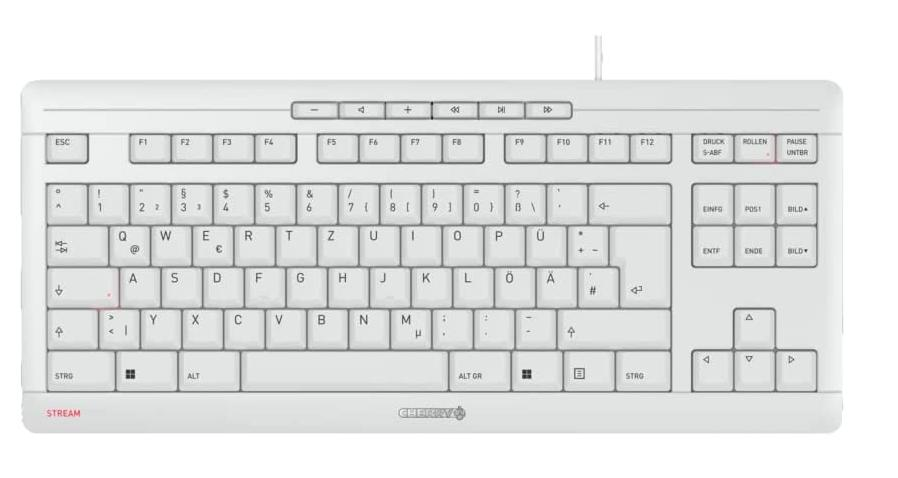0: (462, 181, 503, 222)
1: (87, 181, 127, 222)
2: (129, 181, 169, 223)
3: (170, 181, 211, 223)
4: (212, 181, 252, 222)
5: (253, 181, 293, 223)
6: (295, 181, 335, 223)
7: (338, 181, 378, 222)
8: (379, 181, 420, 223)
9: (420, 181, 461, 222)
a: (119, 265, 157, 305)
accent: (546, 181, 585, 223)
ae: (535, 264, 575, 305)
alt-left: (177, 347, 240, 391)
altgr-right: (448, 347, 511, 391)
b: (305, 305, 347, 347)
c: (223, 306, 263, 347)
caret: (44, 181, 85, 222)
comma: (431, 306, 470, 348)
d: (202, 264, 242, 305)
del: (587, 181, 670, 223)
e: (192, 223, 232, 264)
enter: (607, 221, 670, 306)
f: (245, 265, 283, 306)
g: (285, 264, 324, 305)
h: (327, 264, 367, 305)
hash: (577, 264, 616, 306)
i: (400, 223, 439, 263)
j: (369, 264, 408, 306)
k: (411, 265, 450, 305)
keyboard: (20, 79, 843, 433)
l: (453, 264, 491, 304)
less: (97, 306, 139, 347)
m: (389, 306, 430, 348)
minus: (513, 307, 553, 346)
n: (348, 306, 388, 347)
o: (441, 222, 481, 264)
oe: (494, 264, 533, 305)
p: (483, 222, 523, 264)
plus: (566, 222, 606, 264)
point: (473, 306, 513, 347)
q: (107, 223, 149, 265)
r: (233, 223, 273, 264)
s: (160, 265, 199, 305)
shift-left: (45, 306, 96, 348)
shift-lock: (47, 264, 117, 305)
shift-right: (556, 305, 670, 347)
space: (241, 348, 448, 392)
ss: (503, 181, 544, 222)
strg-left: (44, 347, 115, 391)
strg-right: (614, 348, 671, 390)
t: (276, 223, 314, 264)
tab: (46, 223, 106, 264)
u: (358, 222, 398, 264)
ue: (525, 222, 564, 264)
v: (265, 306, 303, 347)
w: (150, 222, 190, 263)
x: (181, 306, 221, 346)
y: (140, 306, 180, 347)
z: (317, 223, 357, 265)
